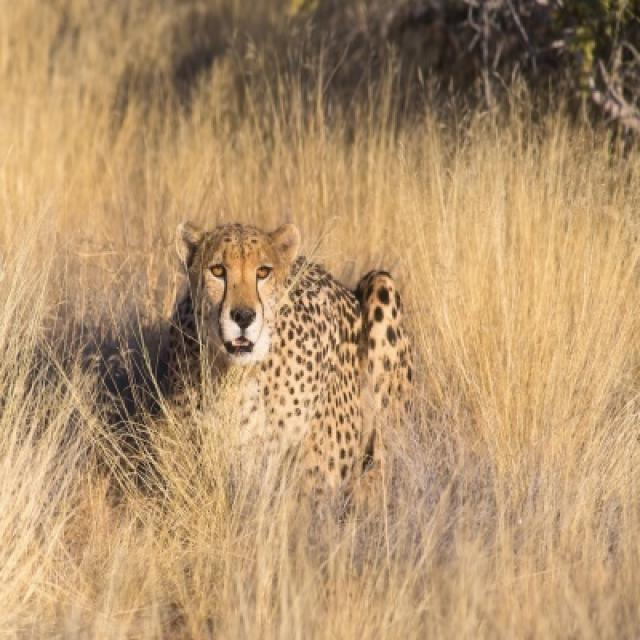Cheetah: (151, 215, 415, 488)
